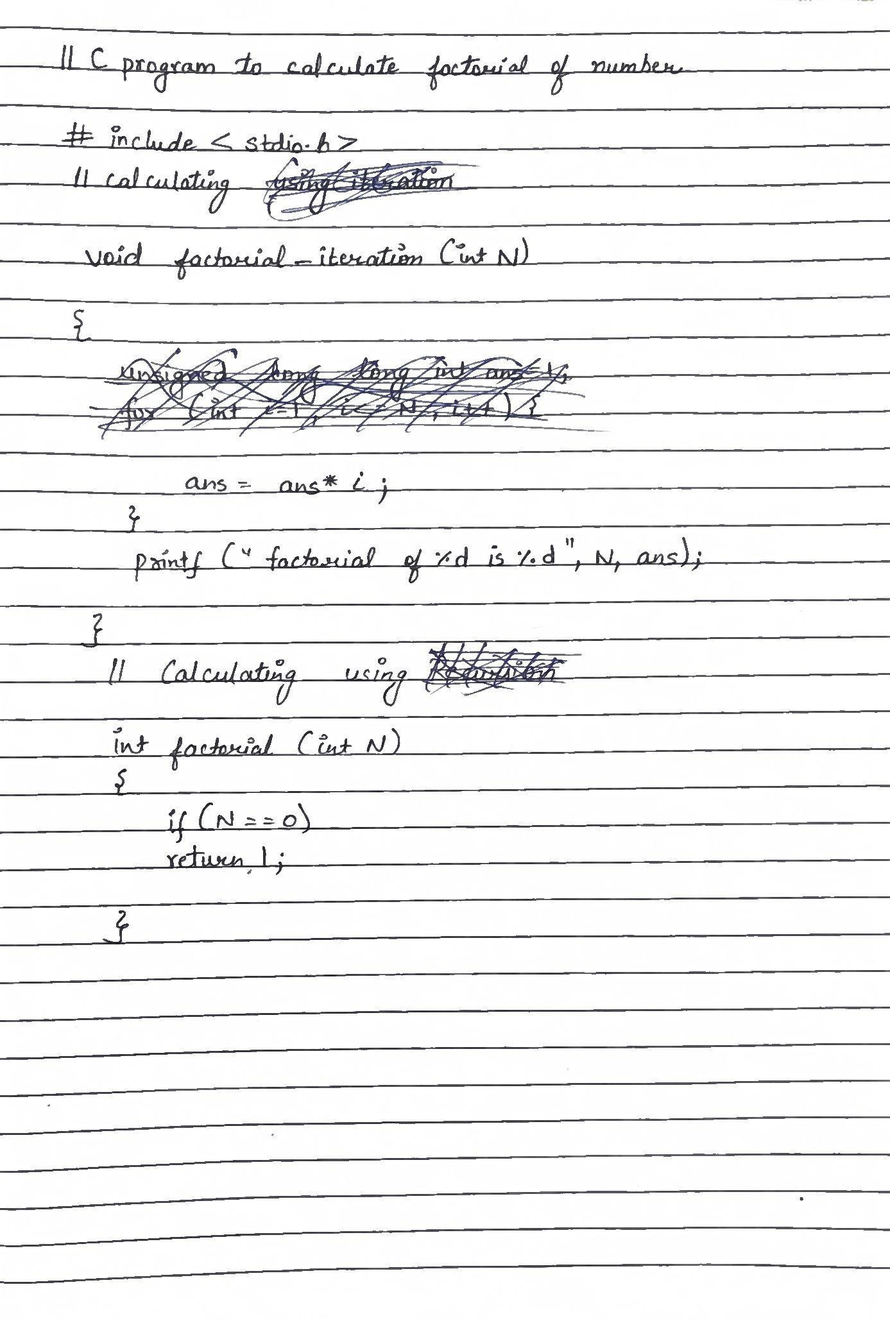cuttings: (86, 346, 612, 440), (261, 156, 483, 223), (421, 639, 584, 698)
